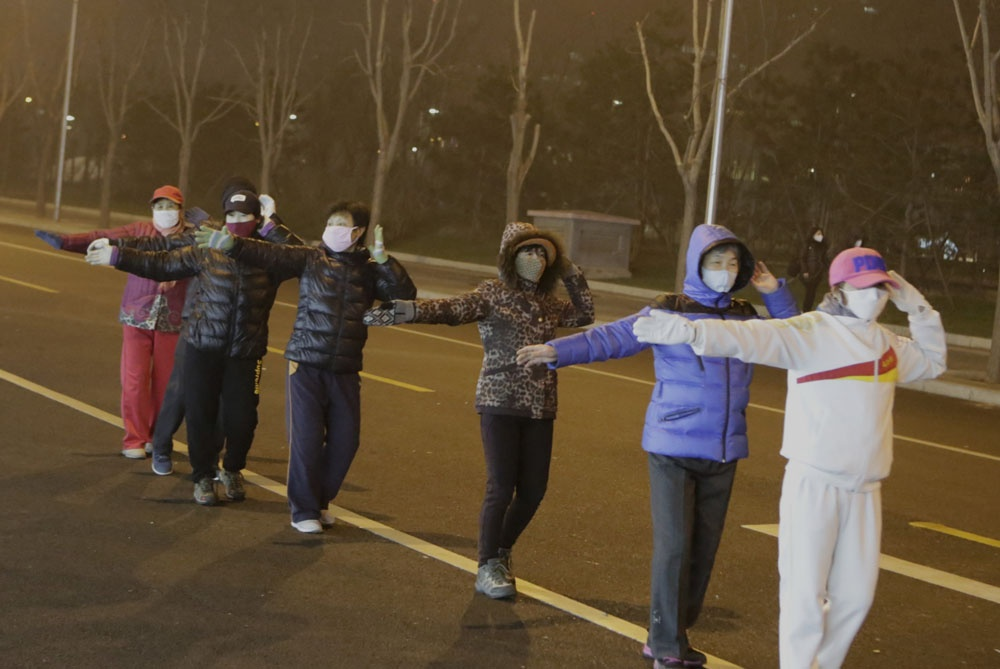Mask: (703, 251, 748, 296)
